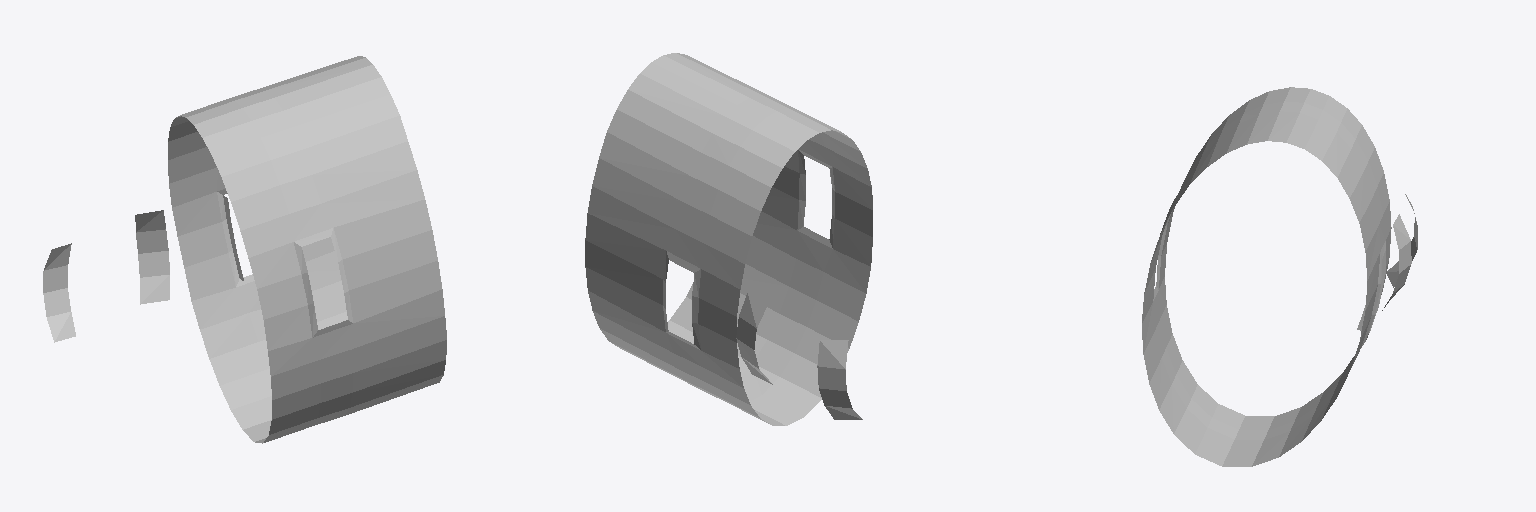
The model's file is swordeco3.obj.
3 renders of one model, left to right at view 1: azimuth 30°, elevation 25°; view 2: azimuth 150°, elevation 25°; view 3: azimuth 270°, elevation 25°, orthographic.
Visible parts, largest first — view 1: sworddeco3; view 2: sworddeco3; view 3: sworddeco3.
Boxes of the visible parts, box(x1,y1,x2,y2) form: sworddeco3: box(43, 56, 446, 443); sworddeco3: box(585, 53, 872, 425); sworddeco3: box(1142, 87, 1417, 466).
Bounding box in the file's own units: 5.13 × 5.57 × 4.13.